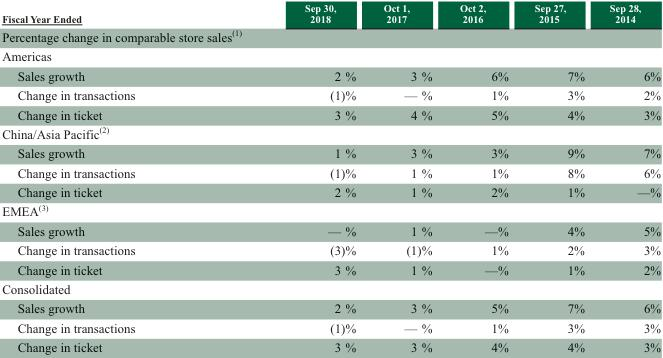table: (1, 0, 660, 355)
table column: (1, 0, 219, 355), (219, 0, 368, 355), (368, 0, 445, 355), (520, 0, 596, 355), (445, 0, 520, 355), (596, 0, 660, 355)
table column header: (1, 0, 660, 26)
table projected row header: (1, 26, 660, 46), (1, 123, 660, 143), (1, 200, 660, 220), (1, 278, 660, 298), (1, 46, 660, 65)
table row: (1, 0, 660, 26), (1, 26, 660, 46), (1, 65, 660, 85), (1, 123, 660, 143), (1, 200, 660, 220), (1, 220, 660, 240), (1, 278, 660, 298), (1, 46, 660, 65), (1, 85, 660, 104), (1, 104, 660, 123), (1, 143, 660, 162), (1, 162, 660, 181), (1, 181, 660, 200), (1, 240, 660, 259), (1, 259, 660, 278), (1, 298, 660, 317), (1, 317, 660, 336), (1, 336, 660, 355)
